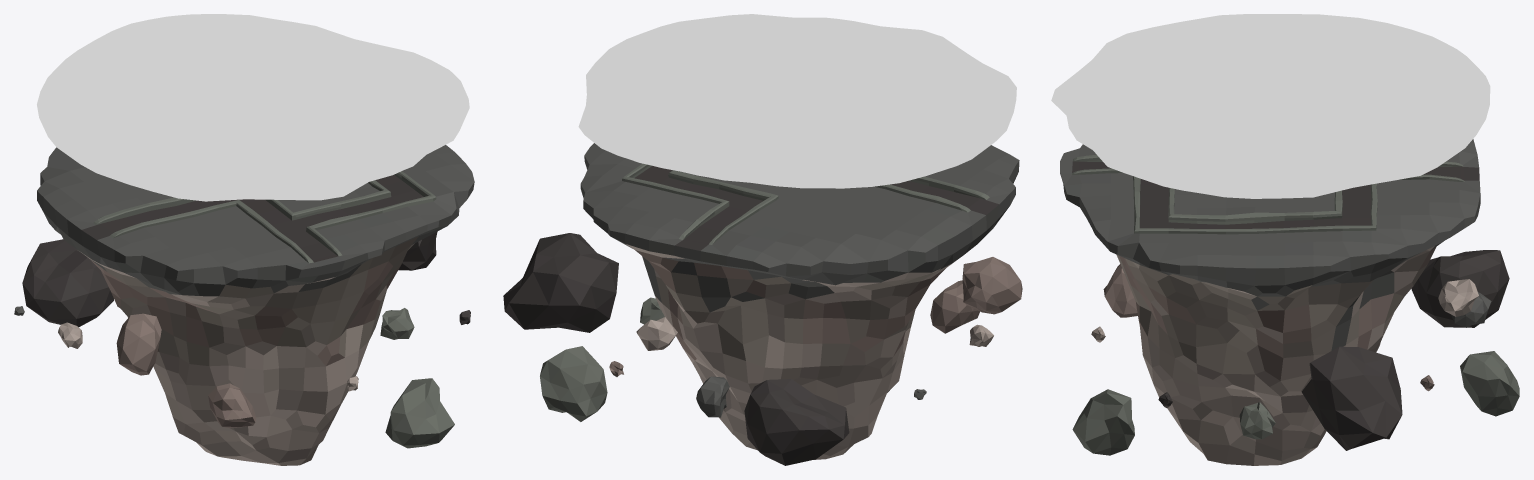
Rendered from island_big_1.fbx.
The picture shows the model from 3 angles, left to right: view 1: azimuth 30°, elevation 25°; view 2: azimuth 150°, elevation 25°; view 3: azimuth 270°, elevation 25°; orthographic projection. The views are drawn at different scales.
Visible parts, largest first — view 1: Icosphere, Icosphere.015, Icosphere.001, Icosphere.006, Icosphere.009, Icosphere.011, Icosphere.007, Icosphere.014, Icosphere.010; view 2: Icosphere, Icosphere.015, Icosphere.007, Icosphere.001, Icosphere.003, Icosphere.009, Icosphere.011, Icosphere.002, Icosphere.005; view 3: Icosphere, Icosphere.015, Icosphere.007, Icosphere.001, Icosphere.006, Icosphere.003, Icosphere.005, Icosphere.011, Icosphere.014, Icosphere.002.
Part boxes in pixels (left/top/right/bottom): Icosphere: left=37, top=145, right=474, bottom=465; Icosphere.015: left=37, top=14, right=469, bottom=201; Icosphere.001: left=22, top=239, right=113, bottom=327; Icosphere.006: left=385, top=378, right=454, bottom=448; Icosphere.009: left=116, top=313, right=161, bottom=375; Icosphere.011: left=208, top=383, right=256, bottom=427; Icosphere.007: left=398, top=231, right=437, bottom=270; Icosphere.014: left=380, top=308, right=414, bottom=339; Icosphere.010: left=58, top=322, right=82, bottom=348; Icosphere: left=580, top=143, right=1019, bottom=459; Icosphere.015: left=578, top=14, right=1016, bottom=188; Icosphere.007: left=503, top=233, right=618, bottom=332; Icosphere.001: left=744, top=379, right=849, bottom=465; Icosphere.003: left=540, top=346, right=607, bottom=421; Icosphere.009: left=962, top=257, right=1022, bottom=314; Icosphere.011: left=930, top=280, right=979, bottom=333; Icosphere.002: left=696, top=376, right=729, bottom=417; Icosphere.005: left=636, top=317, right=677, bottom=350; Icosphere: left=1060, top=139, right=1480, bottom=465; Icosphere.015: left=1051, top=14, right=1490, bottom=198; Icosphere.007: left=1301, top=346, right=1402, bottom=450; Icosphere.001: left=1411, top=250, right=1509, bottom=327; Icosphere.006: left=1072, top=389, right=1134, bottom=455; Icosphere.003: left=1460, top=351, right=1519, bottom=416; Icosphere.005: left=1438, top=279, right=1478, bottom=316; Icosphere.011: left=1103, top=264, right=1137, bottom=317; Icosphere.014: left=1239, top=402, right=1275, bottom=439; Icosphere.002: left=1451, top=292, right=1491, bottom=327.
Size of the model in its own units: 281 by 224 by 263.
